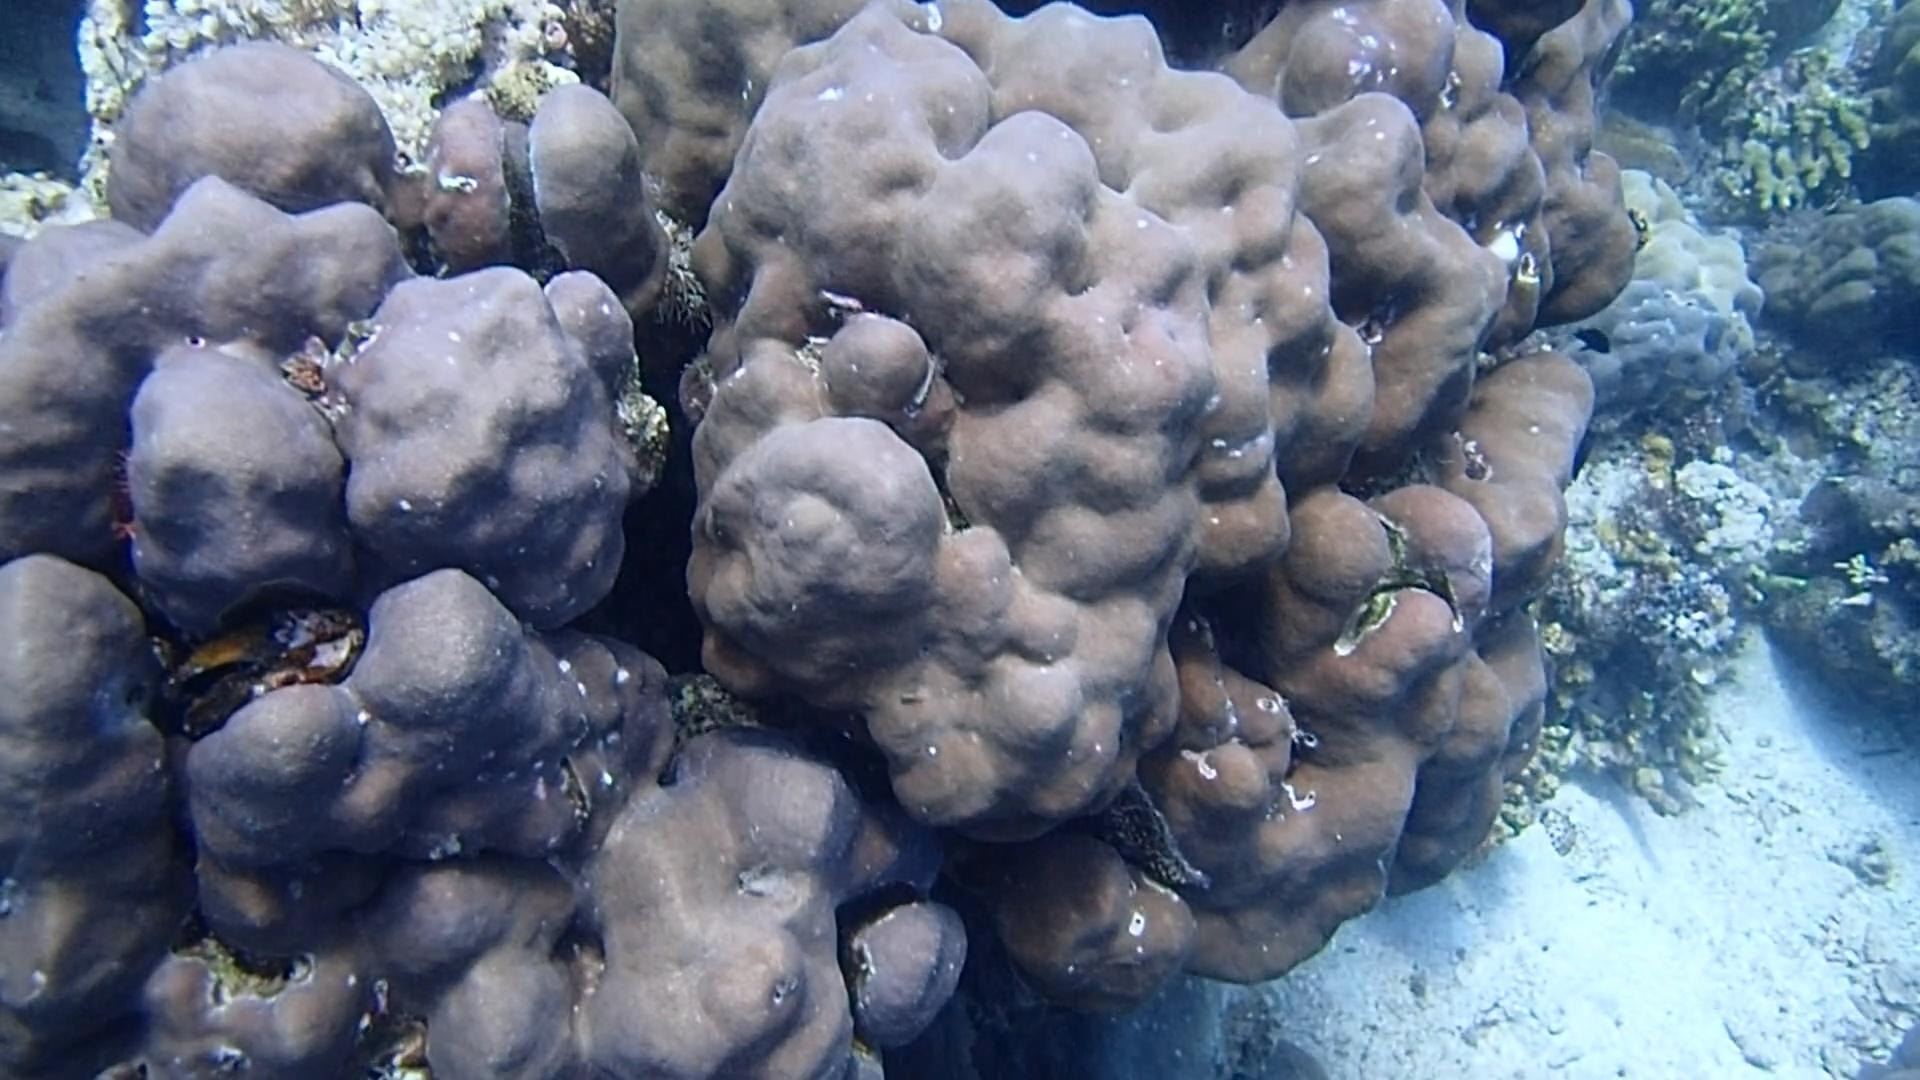Dark Fish: (1571, 318, 1615, 367)
